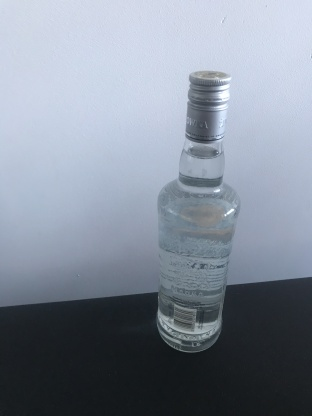nakretka: (183, 68, 233, 145)
